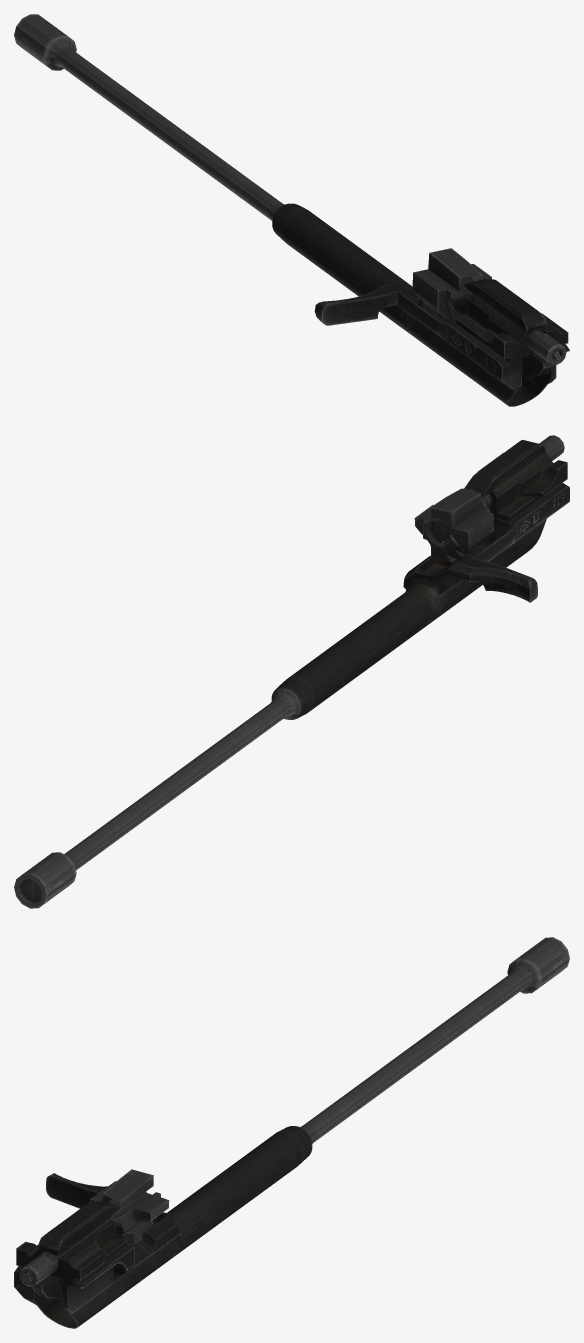
3 renders of one model, top to bottom at view 1: azimuth 30°, elevation 25°; view 2: azimuth 150°, elevation 25°; view 3: azimuth 330°, elevation 25°, orthographic.
Visible parts, largest first — view 1: TW_5c501a4d2e221602b412b540_PZ_Import; view 2: TW_5c501a4d2e221602b412b540_PZ_Import; view 3: TW_5c501a4d2e221602b412b540_PZ_Import.
Boxes of the visible parts, x1,y1,x2,y2 form: TW_5c501a4d2e221602b412b540_PZ_Import: (14,14,569,406); TW_5c501a4d2e221602b412b540_PZ_Import: (14,435,569,908); TW_5c501a4d2e221602b412b540_PZ_Import: (14,937,569,1328).
Bounding box in the file's own units: 0.0365 × 0.2345 × 0.0253.
Materials: 1 (1 with a texture image).
